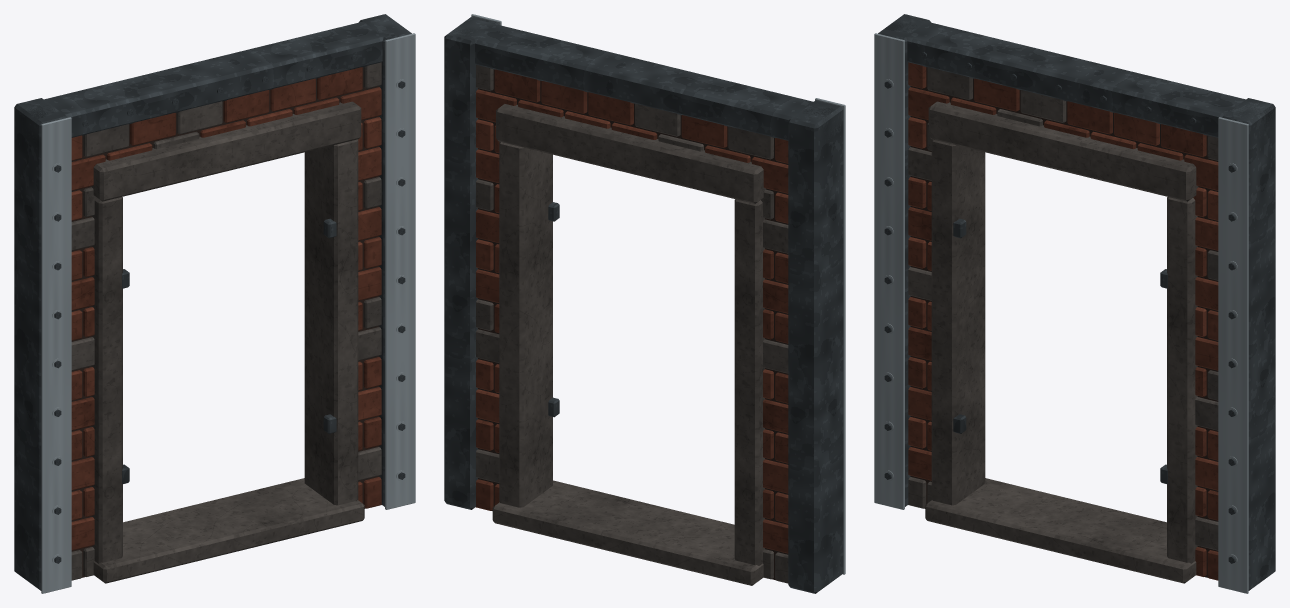
3 renders of one model, left to right at view 1: azimuth 30°, elevation 25°; view 2: azimuth 150°, elevation 25°; view 3: azimuth 330°, elevation 25°, orthographic.
Visible parts, largest first — view 1: foundry-slag-brick, gunmetal-cast-iron, machined-bearing-steel, fired-foundry-brick, mortar-joint-recess; view 2: foundry-slag-brick, gunmetal-cast-iron, fired-foundry-brick, mortar-joint-recess, machined-bearing-steel; view 3: foundry-slag-brick, gunmetal-cast-iron, machined-bearing-steel, fired-foundry-brick, mortar-joint-recess.
Boxes of the visible parts, x1,y1,x2,y2 form: foundry-slag-brick: [71, 62, 381, 583]; gunmetal-cast-iron: [14, 14, 411, 590]; machined-bearing-steel: [41, 33, 415, 593]; fired-foundry-brick: [71, 67, 381, 550]; mortar-joint-recess: [71, 67, 379, 577]; foundry-slag-brick: [476, 64, 788, 585]; gunmetal-cast-iron: [444, 16, 843, 593]; fired-foundry-brick: [475, 69, 788, 553]; mortar-joint-recess: [478, 69, 788, 580]; machined-bearing-steel: [471, 14, 845, 574]; foundry-slag-brick: [908, 67, 1218, 583]; gunmetal-cast-iron: [878, 14, 1275, 590]; machined-bearing-steel: [874, 33, 1248, 593]; fired-foundry-brick: [908, 62, 1218, 580]; mortar-joint-recess: [910, 67, 1218, 577].
Bounding box in the file's own units: 2 × 2.4 × 0.4.
5 materials, 4 textured.
